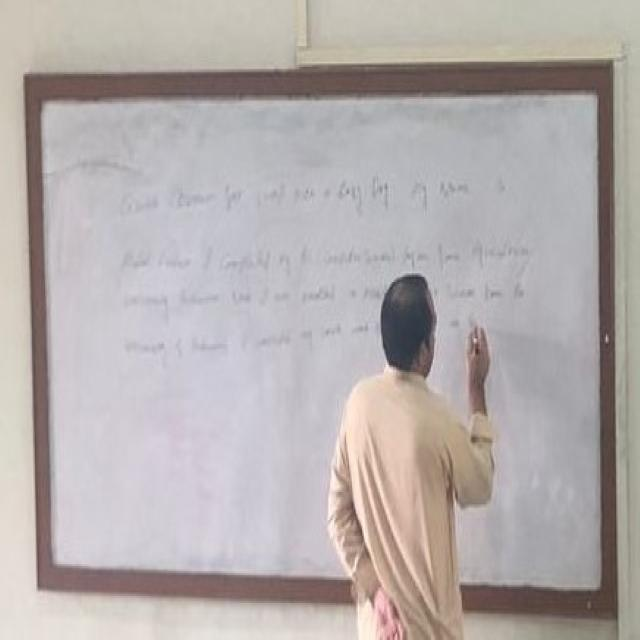Instructor: (338, 251, 466, 625)
White-board: (31, 72, 613, 603)
